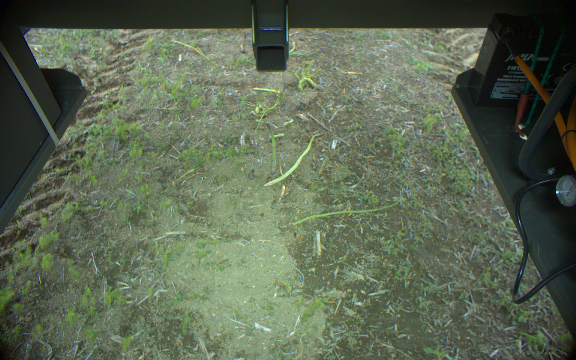aspa: (292, 198, 408, 227), (262, 132, 323, 187), (264, 124, 277, 178), (296, 76, 318, 94)
